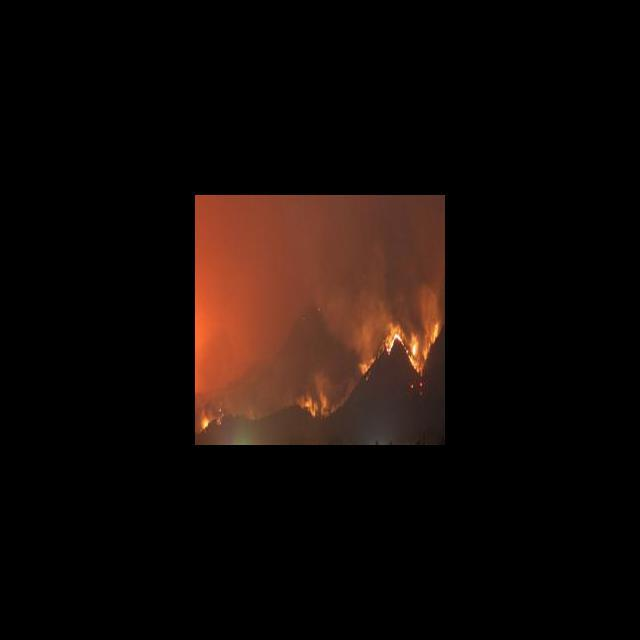Fire: (360, 318, 442, 377), (296, 380, 334, 414), (198, 414, 210, 432)
